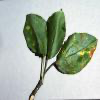Apple Scab Leaf: (56, 29, 99, 76), (46, 6, 69, 63), (23, 11, 49, 58)
